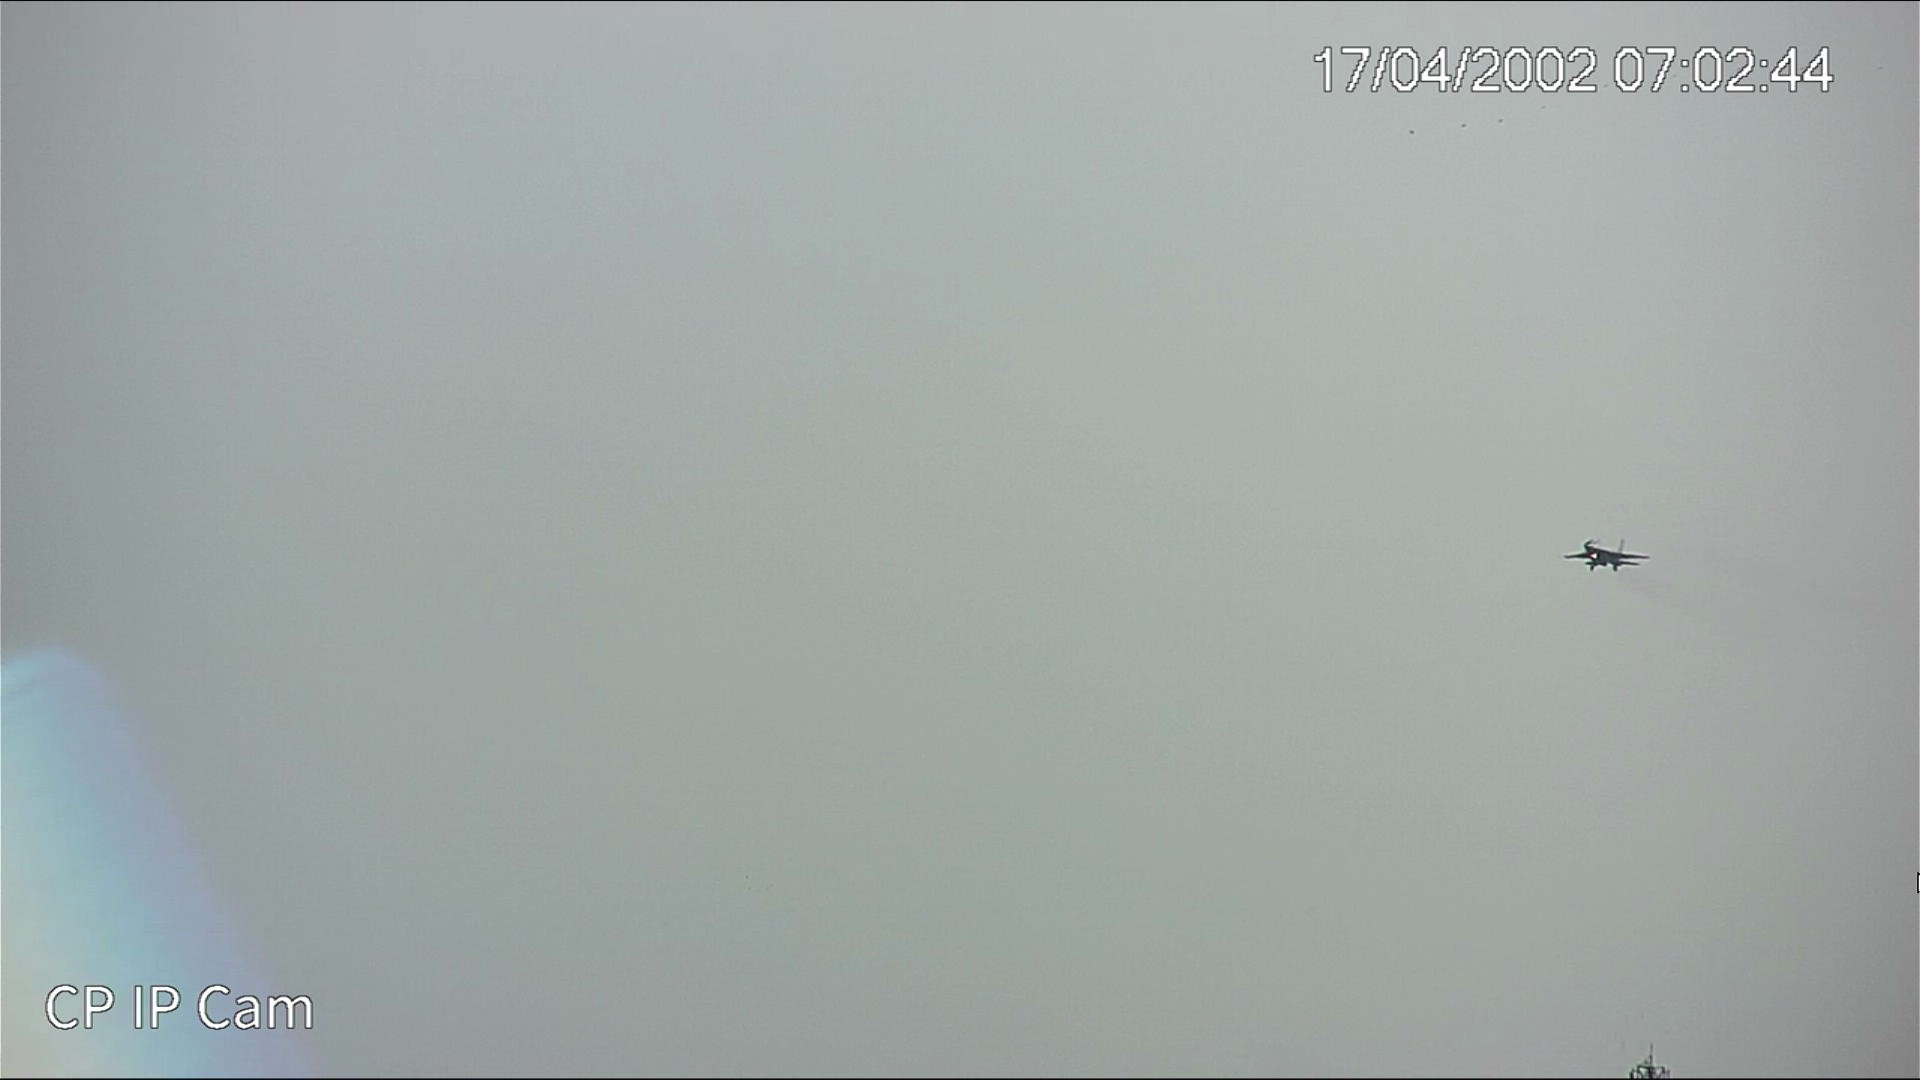SU_30: (1564, 535, 1654, 574)
